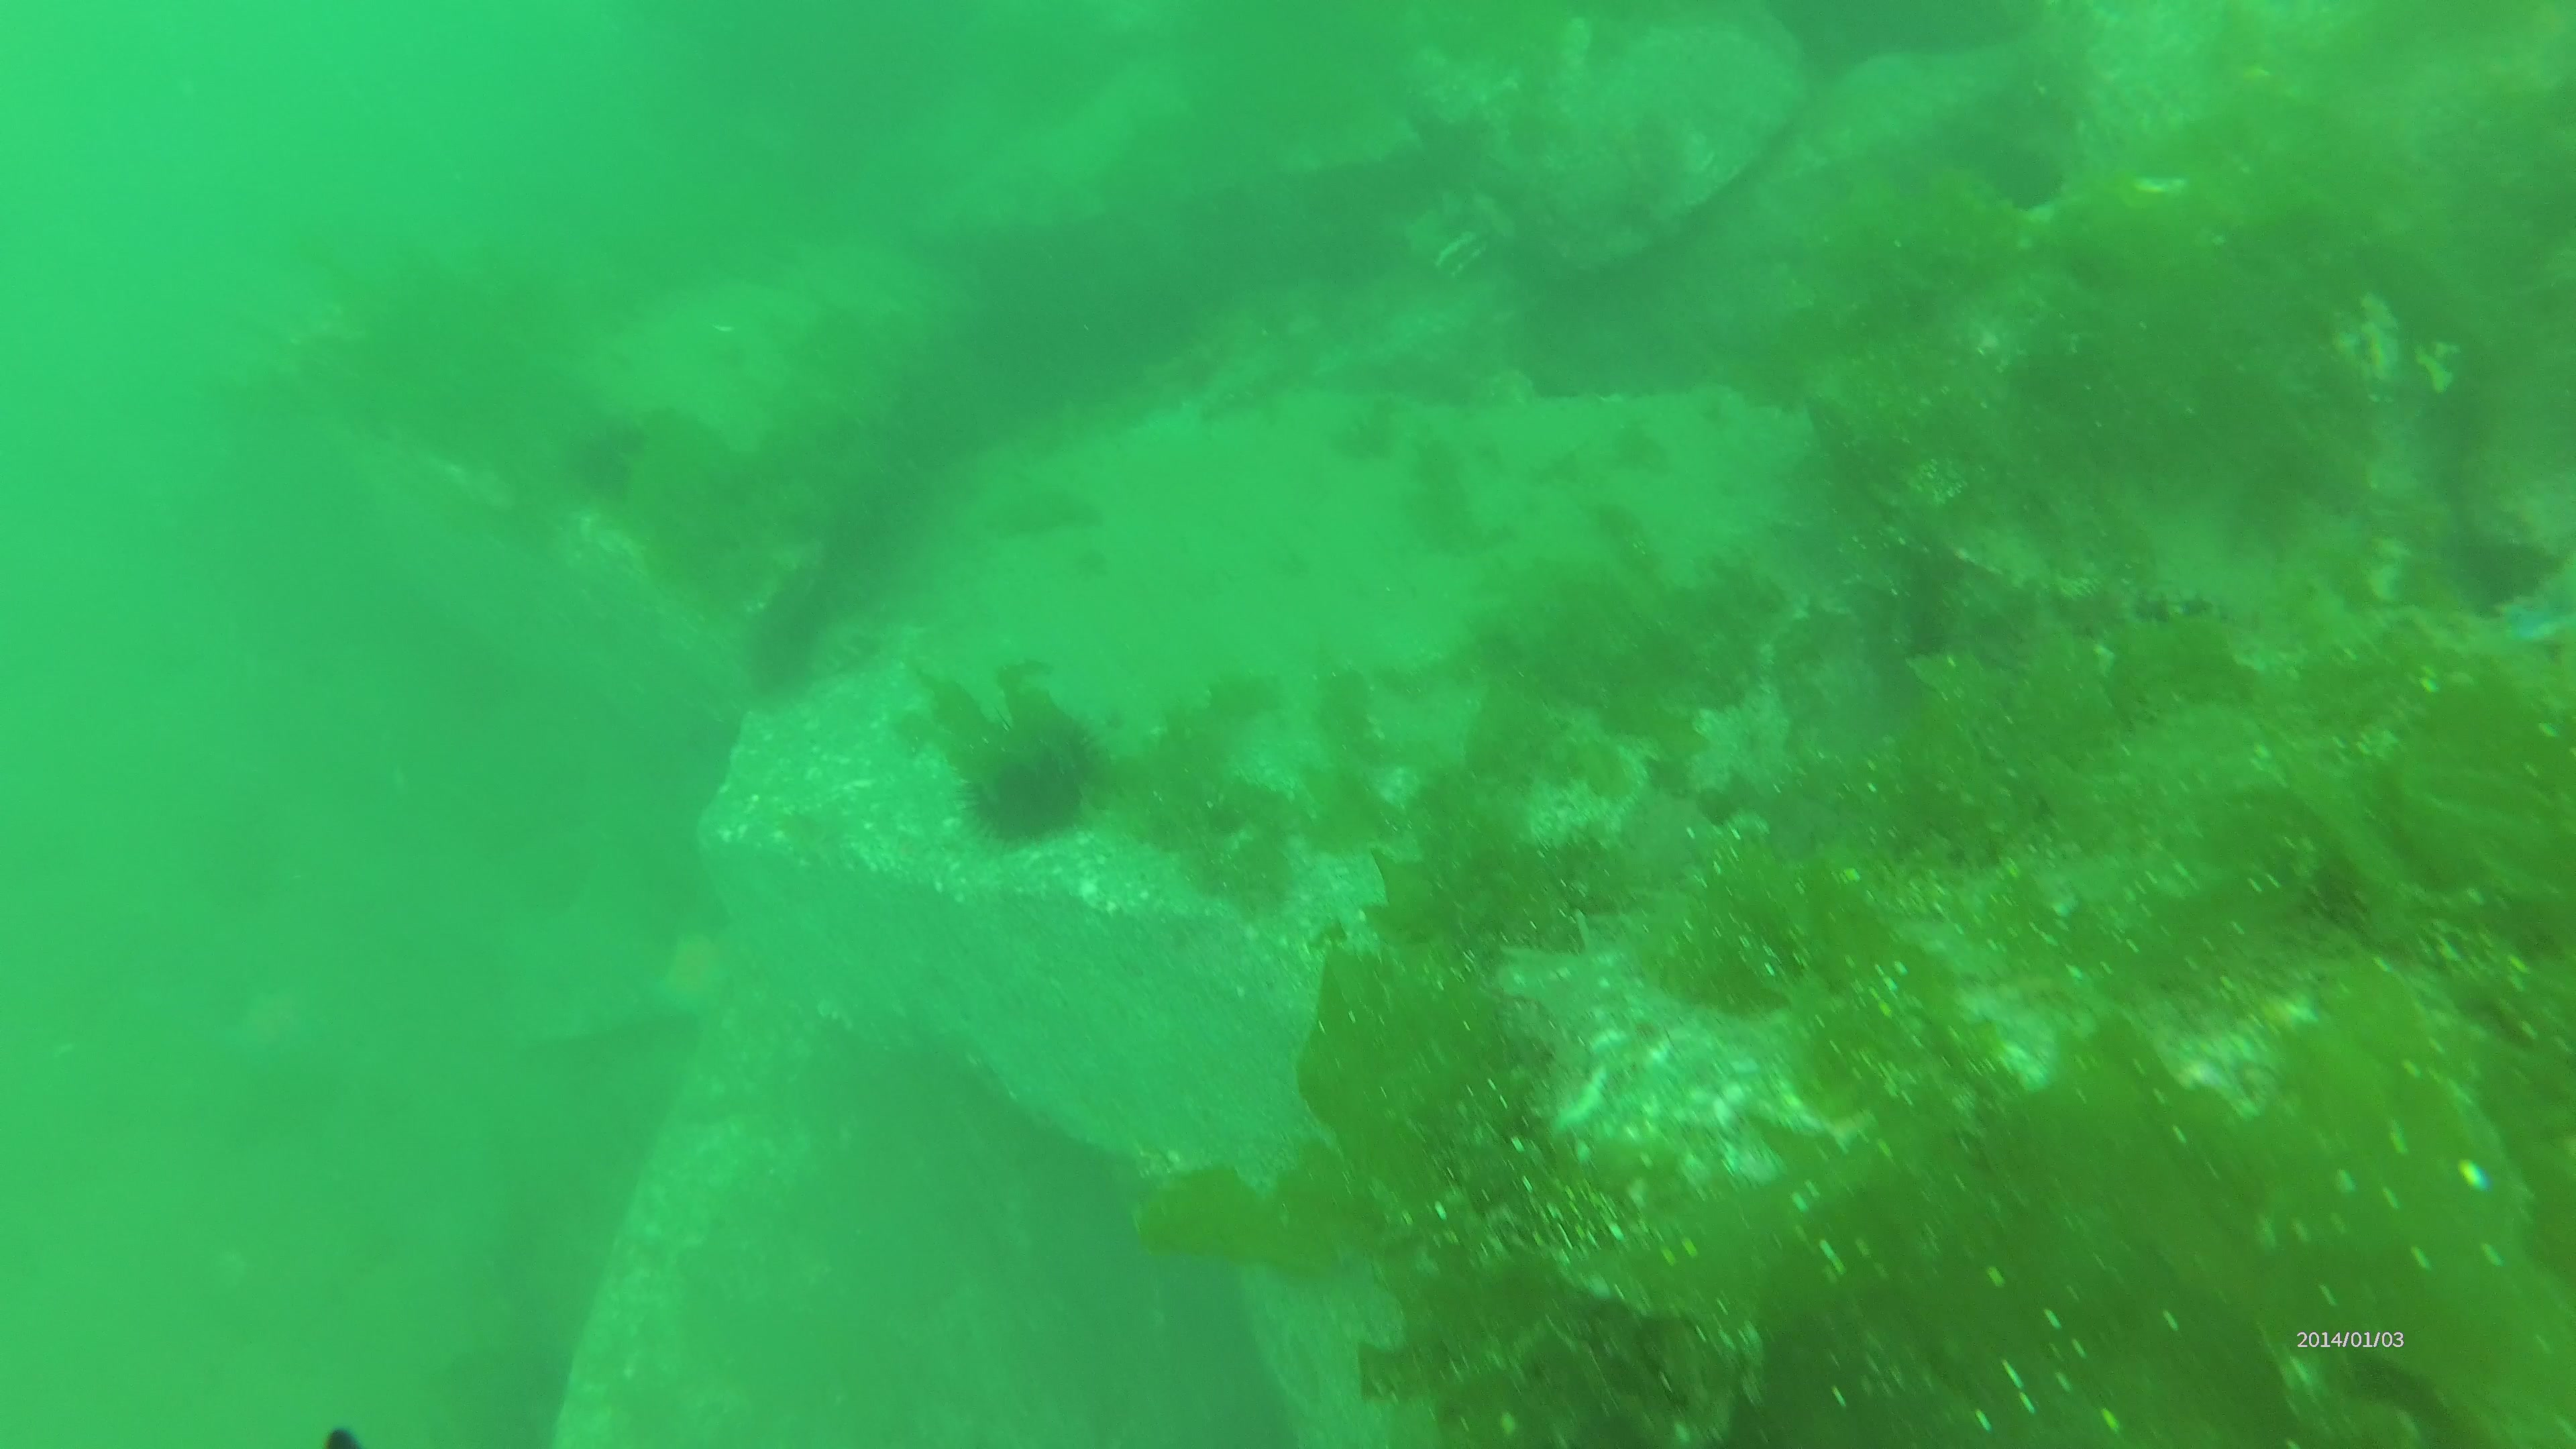echinus: (948, 704, 1120, 858), (575, 428, 655, 508)
